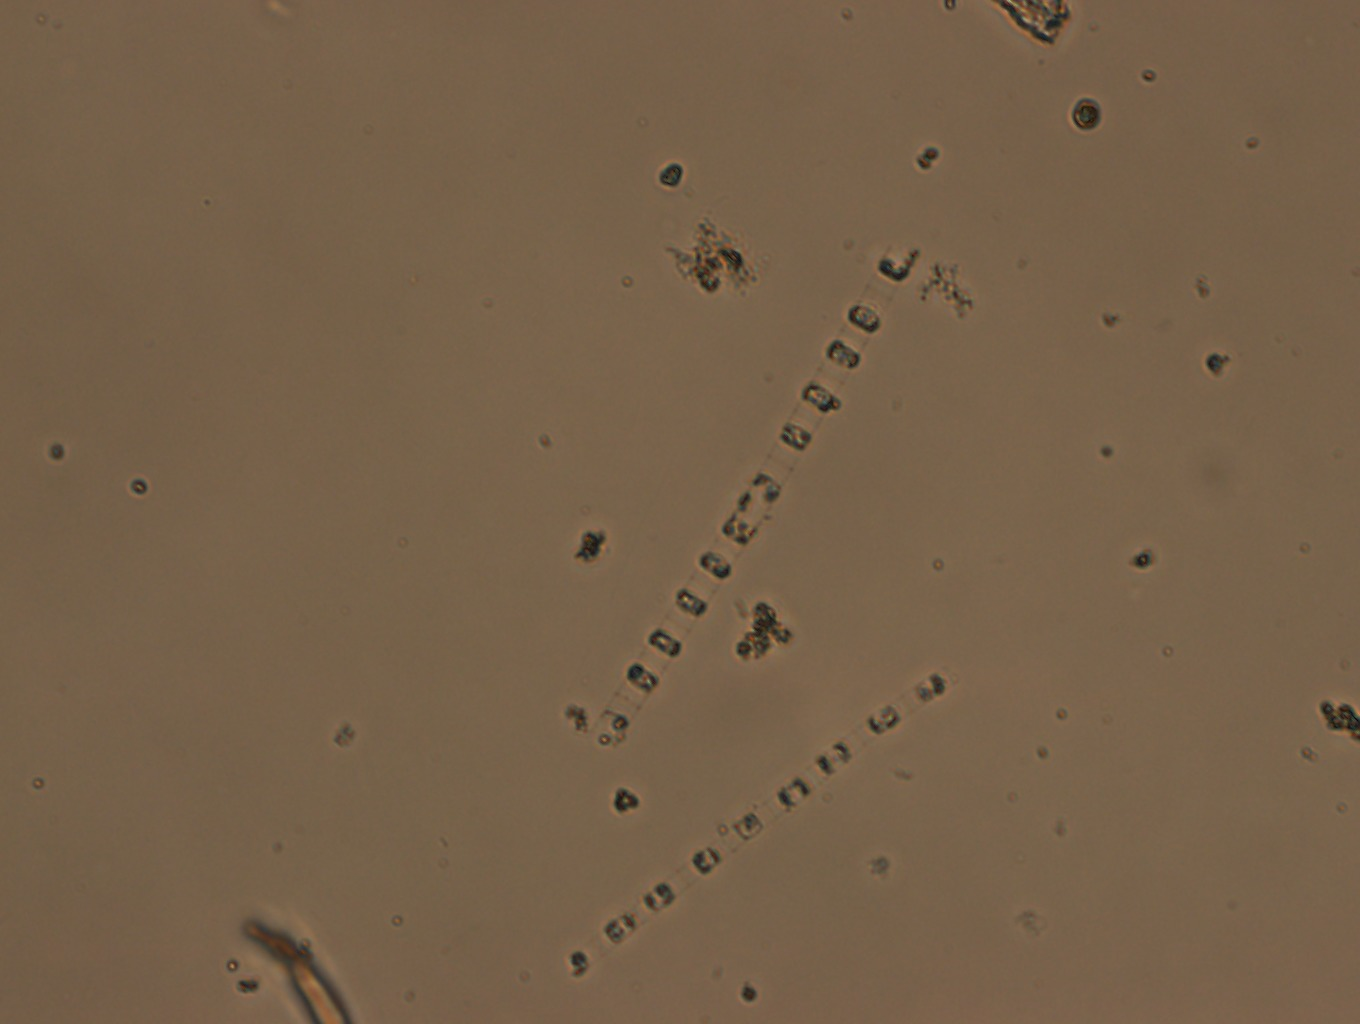skeletonema: (572, 229, 935, 759), (534, 663, 949, 993)
